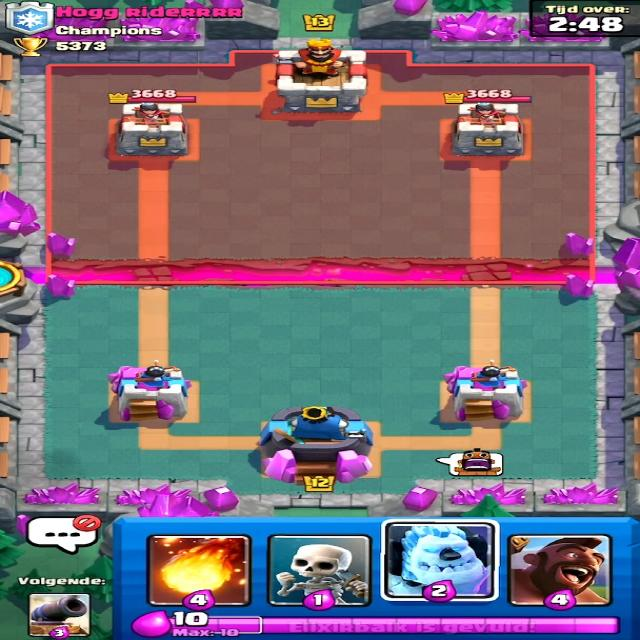Fireball_Card: (145, 532, 250, 607)
Hog_Rider_Card: (506, 534, 609, 606)
Ice_Golem_Card: (381, 523, 499, 600)
Skeleton_Card: (271, 538, 367, 604)
